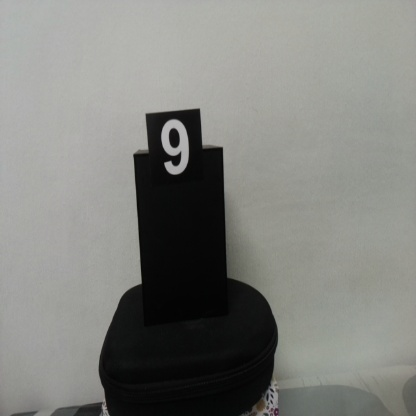id_9: (146, 114, 203, 189)
